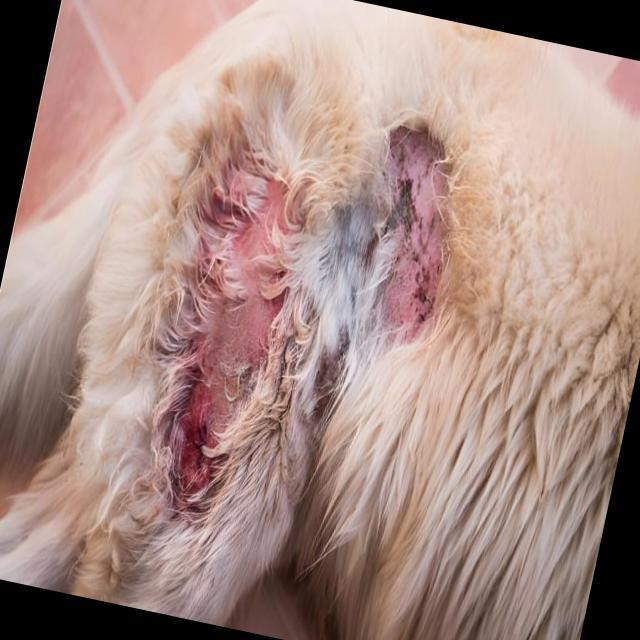allergic dermatitis: (160, 147, 275, 525), (355, 124, 443, 379)
